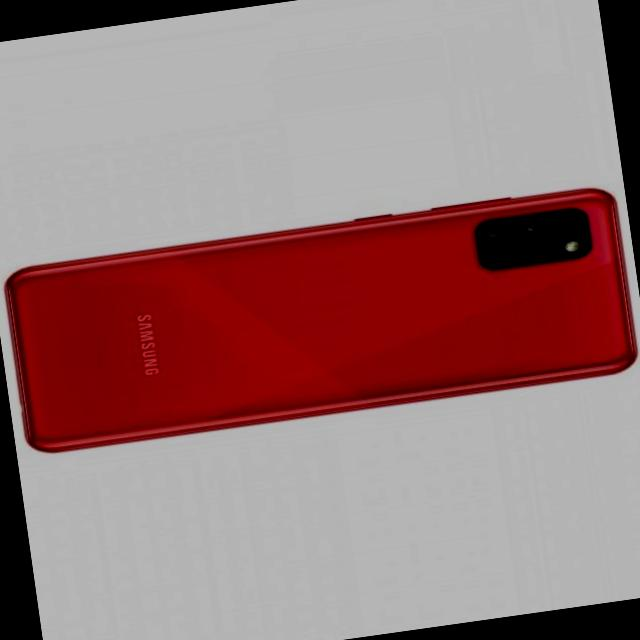lens_back: (546, 207, 585, 237), (514, 213, 548, 241), (480, 244, 515, 270), (478, 219, 512, 245)
phone: (0, 177, 640, 461)
